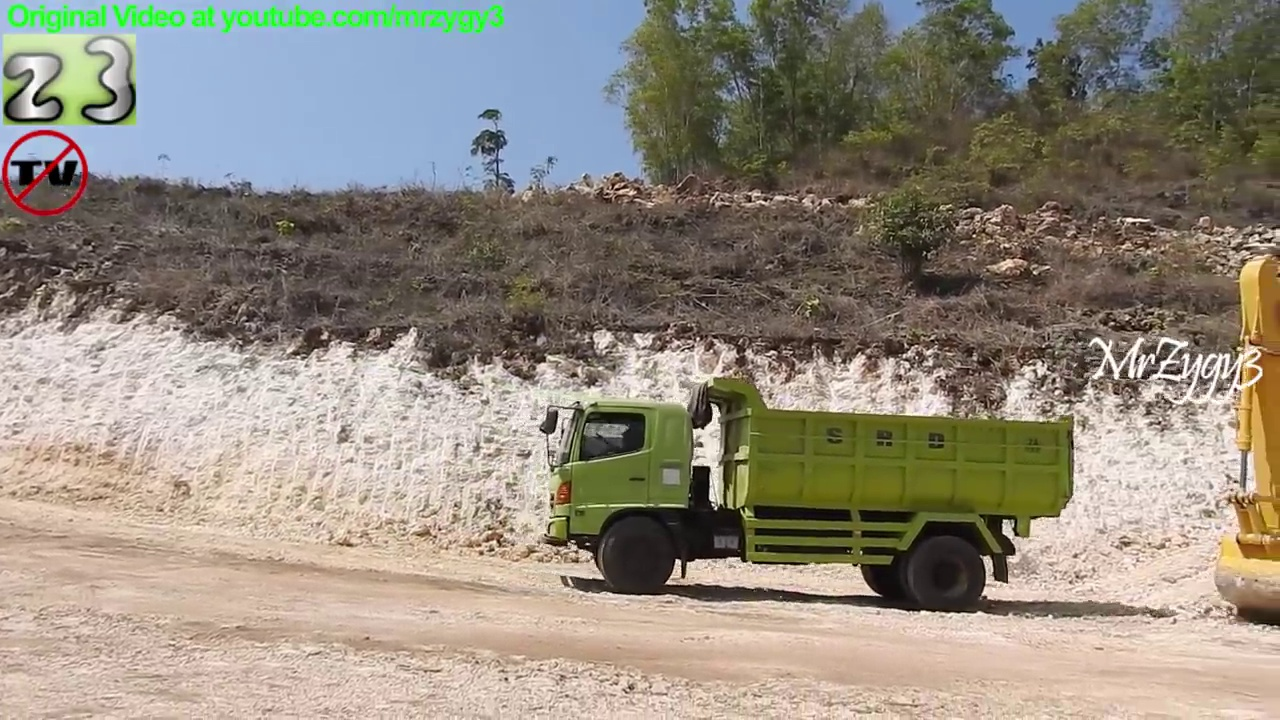excavator: (1209, 247, 1280, 625)
truck: (534, 372, 1084, 617)
